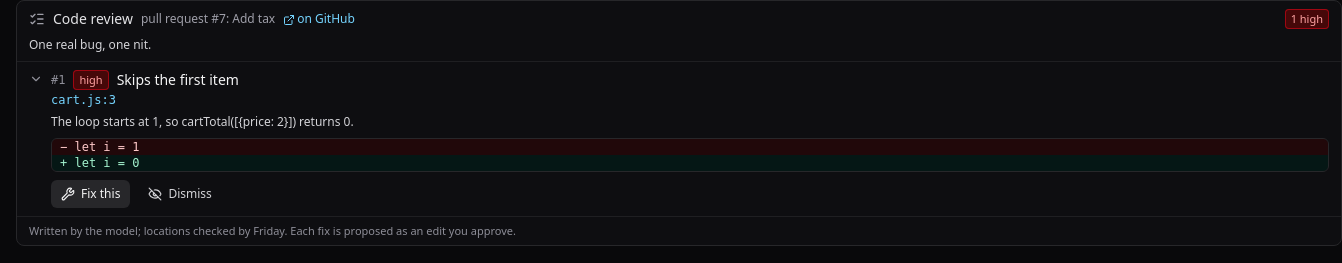
Scenario: review card › dismisses and restores findings
The width and height of the screenshot is (1342, 263).
Click the button "Dismiss": (180, 194) [138, 180, 222, 208]
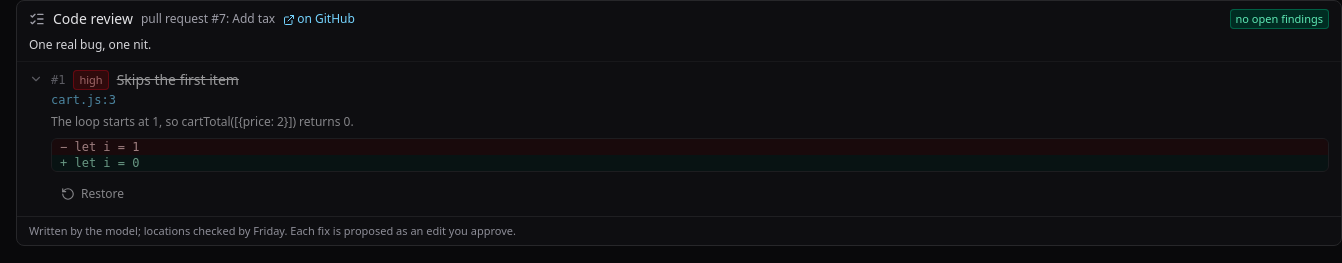
Now the button "Restore" is shown
Now the text "no open findings" is shown, box [1230, 9, 1329, 29]
Click the button "Restore": (93, 194) [51, 180, 134, 208]
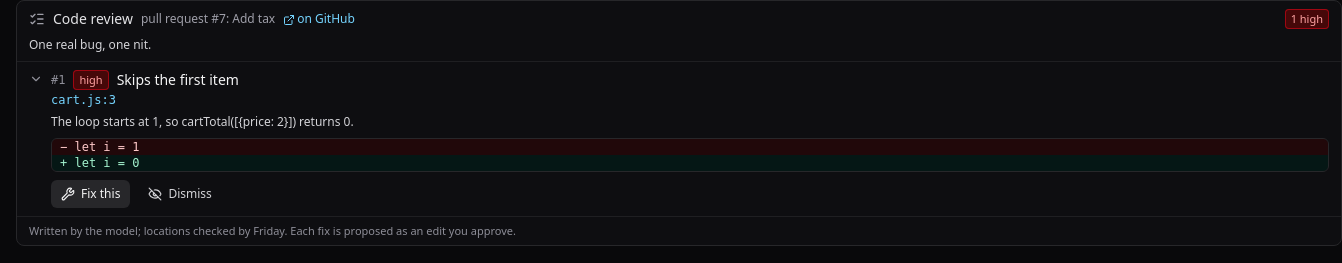
Now the button "Fix this" is shown, box [51, 180, 130, 208]
